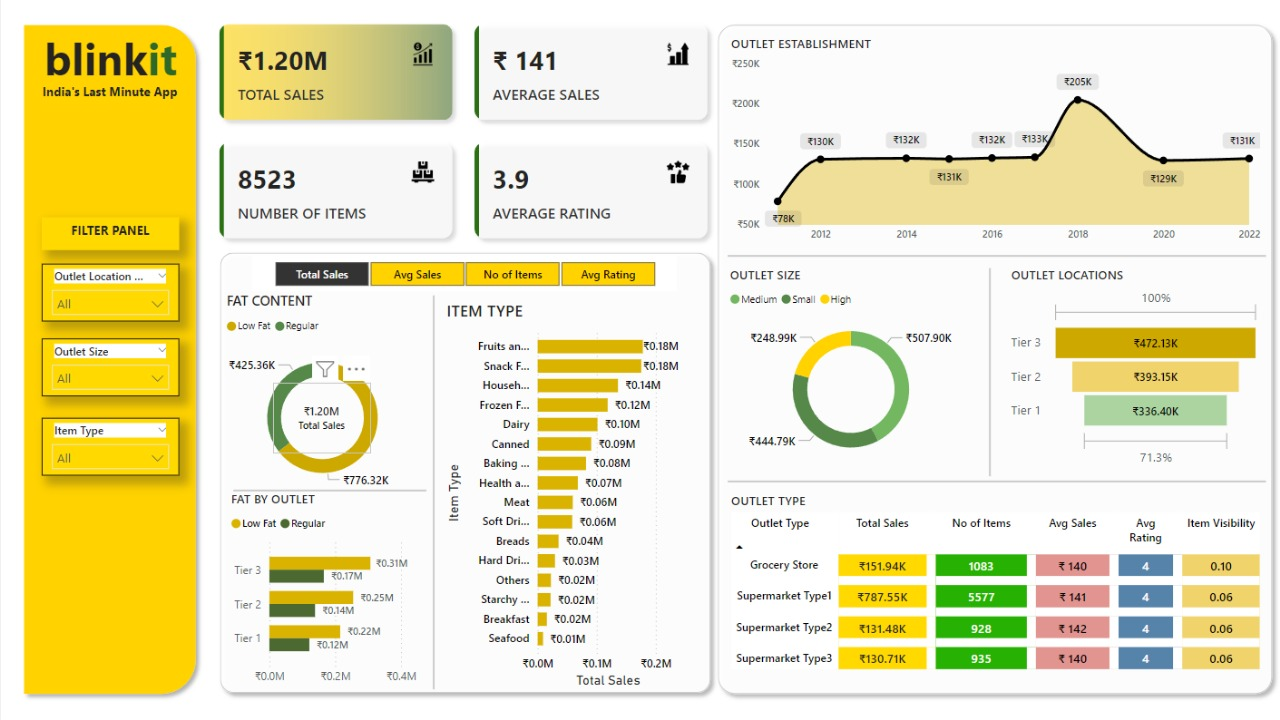

The dashboard page shown, as its layout file describes it:
{"tool":"powerbi","page":{"name":"Page 1","canvas":[1400,800],"ordinal":0},"visuals":[{"type":"shape","box":[16.5,25.4,206,750.4],"z":0},{"type":"textbox","box":[35.6,94.1,166.6,34.3],"z":1000},{"type":"textbox","box":[25.4,33.1,188.2,82.7],"z":2000},{"type":"cardVisual","fields":{"Data":["BlinkIT Grocery Data.Total Sales","BlinkIT Grocery Data.Avg Sales","BlinkIT Grocery Data.No of Items","BlinkIT Grocery Data.Avg Rating"]},"box":[222.6,17.8,569.8,269.6],"z":3000},{"type":"shape","title":"FAT CONTENT","box":[230.2,276,554.5,499.8],"z":4000},{"type":"slicer","fields":{"Values":["Metrics.Metrics"]},"box":[274.7,287.4,465.5,39.4],"z":5000},{"type":"donutChart","title":"FAT CONTENT","fields":{"Y":["BlinkIT Grocery Data.Total Sales"],"Category":["BlinkIT Grocery Data.Item Fat Content"]},"box":[241.6,326.9,220,230.2],"z":6000},{"type":"cardVisual","fields":{"Data":["BlinkIT Grocery Data.Total Sales"]},"box":[297.6,427.3,106.8,76.3],"z":7000},{"type":"clusteredBarChart","title":"FAT BY OUTLET","fields":{"Y":["BlinkIT Grocery Data.Total Sales"],"Series":["BlinkIT Grocery Data.Item Fat Content"],"Category":["BlinkIT Grocery Data.Outlet Location Type"]},"box":[246.7,544.3,220,221.3],"z":8000},{"type":"shape","box":[254.4,538,211.1,12.7],"z":9000},{"type":"shape","box":[465.5,330.7,16.5,431.1],"z":10000},{"type":"barChart","title":"ITEM TYPE","fields":{"Y":["BlinkIT Grocery Data.Total Sales"],"Category":["BlinkIT Grocery Data.Item Type"]},"box":[482,335.8,281.1,429.9],"z":11000},{"type":"shape","title":"FAT CONTENT","box":[775.8,25.4,624.5,750.4],"z":12000},{"type":"lineChart","title":"OUTLET ESTABLISHMENT","fields":{"Category":["BlinkIT Grocery Data.Outlet Establishment Year"],"Y":["BlinkIT Grocery Data.Total Sales"]},"box":[793.6,45.8,588.8,235.3],"z":13000},{"type":"shape","box":[794.9,281.1,588.8,12.7],"z":14000},{"type":"donutChart","title":"OUTLET SIZE","fields":{"Y":["BlinkIT Grocery Data.Total Sales"],"Category":["BlinkIT Grocery Data.Outlet Size"]},"box":[792.3,298.9,274.7,225.1],"z":15000},{"type":"funnel","title":"OUTLET LOCATIONS","fields":{"Y":["BlinkIT Grocery Data.Total Sales"],"Category":["BlinkIT Grocery Data.Outlet Location Type"]},"box":[1100.1,298.9,282.3,225.1],"z":16000},{"type":"shape","box":[1075.9,301.4,12.7,227.7],"z":17000},{"type":"shape","box":[794.9,529.1,588.8,12.7],"z":18000},{"type":"pivotTable","title":"OUTLET TYPE","fields":{"Rows":["BlinkIT Grocery Data.Outlet Type"],"Values":["BlinkIT Grocery Data.Total Sales","BlinkIT Grocery Data.No of Items","BlinkIT Grocery Data.Avg Sales","BlinkIT Grocery Data.Avg Rating","Avg(BlinkIT Grocery Data.Item Visibility)"]},"box":[793.6,545.6,588.8,213.7],"z":19000},{"type":"slicer","fields":{"Values":["BlinkIT Grocery Data.Outlet Location Type"]},"box":[44.5,296.3,150.1,63.6],"z":20000},{"type":"slicer","fields":{"Values":["BlinkIT Grocery Data.Outlet Size"]},"box":[44.5,379,150.1,63.6],"z":21000},{"type":"slicer","fields":{"Values":["BlinkIT Grocery Data.Item Type"]},"box":[44.5,465.5,150.1,63.6],"z":22000},{"type":"textbox","box":[44.5,245.5,150.1,35.6],"z":22001}]}

Visuals, with their boxes in screenshot pixels (x1, y1, x2, y2), scaled from the page's 1400x800 canvas onto the 1280x720 screenshot:
shape: left=15, top=23, right=203, bottom=698
textbox: left=33, top=85, right=185, bottom=116
textbox: left=23, top=30, right=195, bottom=104
cardVisual - BlinkIT Grocery Data.Total Sales x BlinkIT Grocery Data.Avg Sales: left=204, top=16, right=724, bottom=259
"FAT CONTENT" shape: left=210, top=248, right=717, bottom=698
slicer - Metrics.Metrics: left=251, top=259, right=677, bottom=294
"FAT CONTENT" donutChart: left=221, top=294, right=422, bottom=501
cardVisual - BlinkIT Grocery Data.Total Sales: left=272, top=385, right=370, bottom=453
"FAT BY OUTLET" clusteredBarChart: left=226, top=490, right=427, bottom=689
shape: left=233, top=484, right=426, bottom=496
shape: left=426, top=298, right=441, bottom=686
"ITEM TYPE" barChart: left=441, top=302, right=698, bottom=689
"FAT CONTENT" shape: left=709, top=23, right=1279, bottom=698
"OUTLET ESTABLISHMENT" lineChart: left=726, top=41, right=1264, bottom=253
shape: left=727, top=253, right=1265, bottom=264
"OUTLET SIZE" donutChart: left=724, top=269, right=976, bottom=472
"OUTLET LOCATIONS" funnel: left=1006, top=269, right=1264, bottom=472
shape: left=984, top=271, right=995, bottom=476
shape: left=727, top=476, right=1265, bottom=488
"OUTLET TYPE" pivotTable: left=726, top=491, right=1264, bottom=683
slicer - BlinkIT Grocery Data.Outlet Location Type: left=41, top=267, right=178, bottom=324
slicer - BlinkIT Grocery Data.Outlet Size: left=41, top=341, right=178, bottom=398
slicer - BlinkIT Grocery Data.Item Type: left=41, top=419, right=178, bottom=476
textbox: left=41, top=221, right=178, bottom=253
